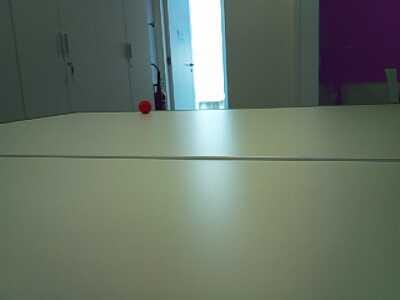bola_lejos: (138, 99, 153, 114)
